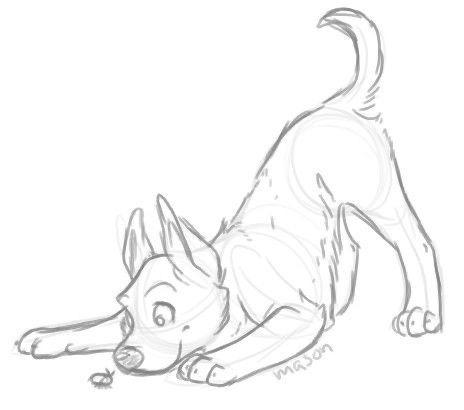adult_dog: (12, 5, 447, 389)
